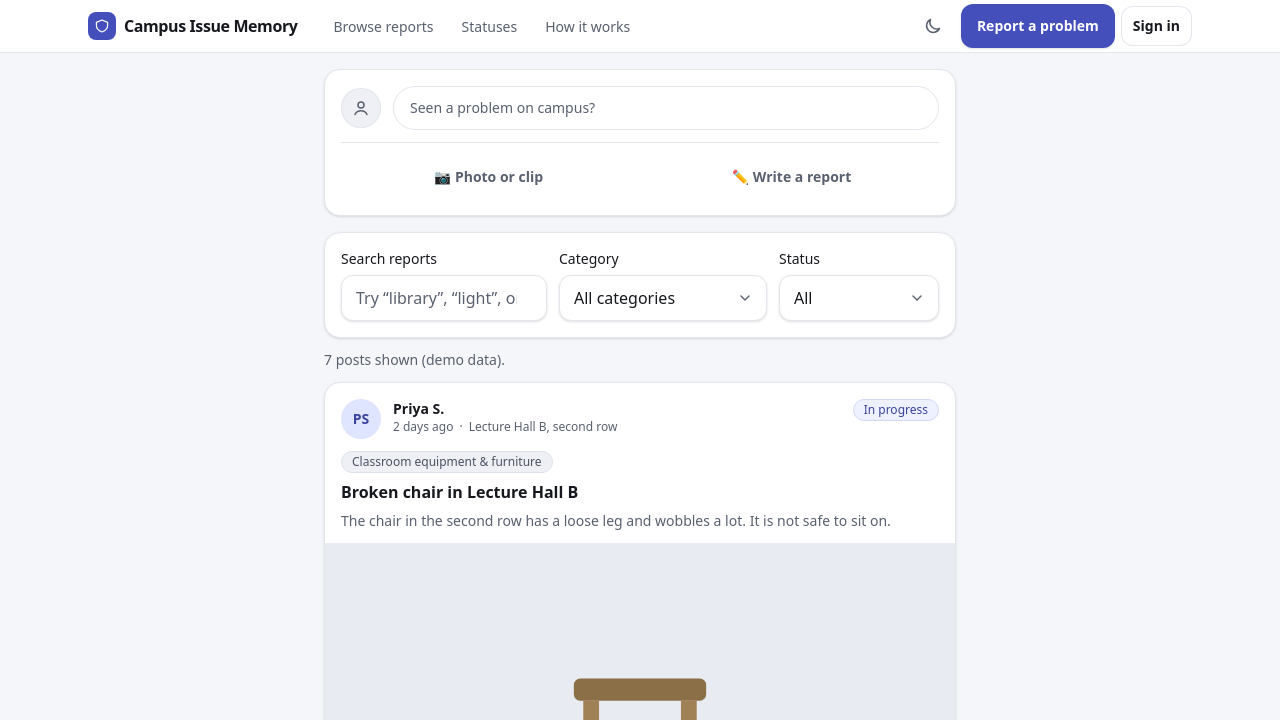
it: App › filters posts with the search box
Expected: the heading "Broken chair in Lecture Hall B" is shown, [341, 481, 578, 503]
Type "library" into the search field labelled "Search reports" at (444, 298), box [341, 275, 547, 321]
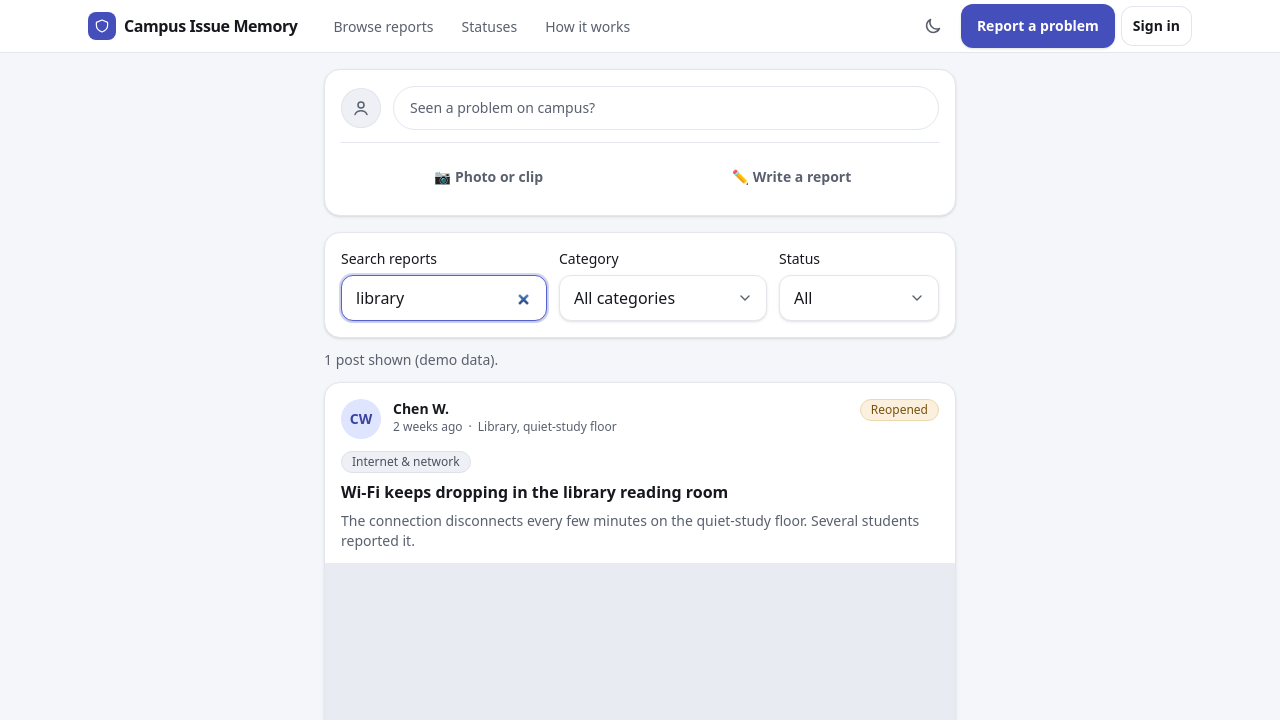
Expected: the heading "Wi-Fi keeps dropping in the library reading room" is shown, [341, 481, 728, 503]
Expected: the text "1 post shown (demo data)." is shown, [324, 350, 498, 369]
Expected: the heading "Broken chair in Lecture Hall B" is gone
